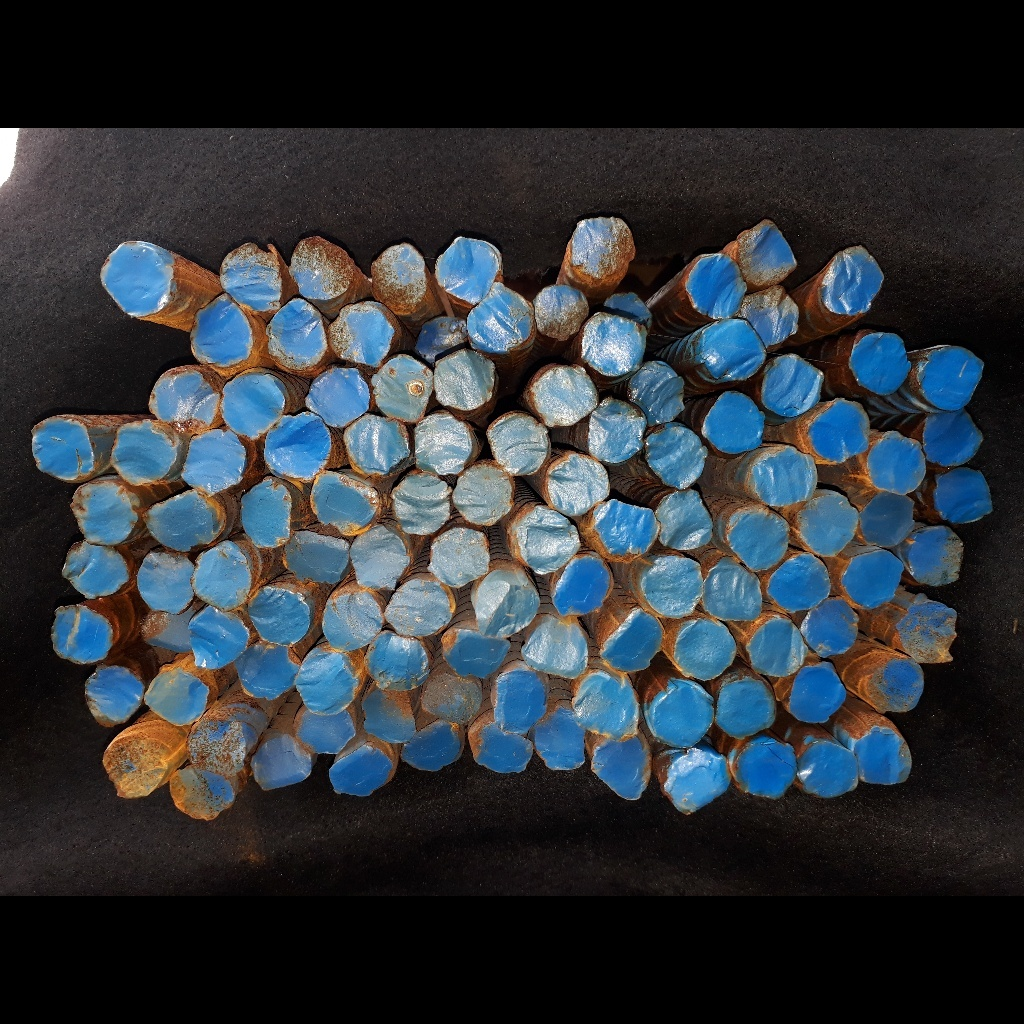dipstick: (102, 241, 172, 314), (146, 491, 221, 548), (648, 682, 715, 745), (72, 484, 137, 547), (666, 749, 730, 812), (918, 348, 984, 409), (823, 248, 882, 316), (470, 287, 532, 351), (222, 370, 283, 435), (84, 663, 144, 729), (573, 218, 634, 282), (732, 737, 796, 798), (740, 220, 799, 286), (247, 585, 313, 644), (221, 244, 282, 307), (143, 669, 210, 726), (676, 620, 737, 682), (519, 509, 580, 571), (372, 246, 427, 314), (150, 371, 218, 426), (729, 510, 790, 571), (290, 237, 352, 297), (268, 416, 330, 476), (478, 576, 540, 636), (702, 320, 765, 379), (268, 302, 325, 367), (312, 475, 378, 531), (32, 420, 93, 480), (330, 306, 392, 365), (296, 653, 356, 713), (51, 607, 112, 666), (853, 331, 909, 395), (112, 427, 177, 482), (191, 304, 251, 363), (789, 665, 850, 723), (797, 740, 859, 797), (181, 431, 243, 488), (437, 235, 493, 298), (687, 254, 743, 317), (581, 674, 637, 737), (194, 548, 250, 611), (812, 399, 867, 463), (377, 355, 431, 420), (534, 367, 593, 426), (763, 356, 823, 414), (705, 391, 762, 452), (103, 739, 165, 795), (189, 718, 247, 777), (643, 557, 703, 614), (584, 317, 645, 373), (869, 432, 925, 493), (803, 494, 858, 556), (414, 414, 471, 473), (718, 679, 775, 738), (553, 559, 612, 616), (190, 610, 247, 669), (648, 427, 703, 488), (429, 531, 490, 586), (137, 553, 194, 611), (528, 623, 587, 679), (598, 502, 658, 557), (347, 419, 408, 473), (926, 410, 984, 466), (604, 615, 662, 671), (435, 352, 494, 407), (322, 595, 381, 650), (659, 491, 713, 551), (633, 362, 685, 424), (490, 415, 545, 473), (900, 605, 958, 660), (802, 601, 862, 654), (365, 638, 426, 690), (251, 738, 312, 790), (494, 670, 544, 733), (387, 583, 450, 633), (550, 457, 606, 513), (936, 469, 992, 525), (353, 532, 409, 588), (395, 477, 450, 534), (243, 480, 289, 548), (61, 546, 126, 594), (592, 740, 647, 796), (758, 451, 815, 505), (444, 632, 510, 678), (312, 368, 368, 422), (859, 729, 912, 786), (771, 557, 829, 609), (591, 401, 642, 460), (168, 773, 233, 819), (454, 471, 509, 525), (242, 645, 296, 699), (744, 288, 797, 343), (859, 494, 915, 546), (846, 554, 903, 605), (752, 623, 806, 676), (469, 729, 534, 773), (288, 532, 345, 582), (534, 287, 587, 339), (705, 569, 759, 620), (537, 714, 584, 772), (331, 749, 390, 795), (911, 530, 962, 583), (362, 691, 415, 741), (406, 724, 461, 772), (424, 676, 480, 723), (876, 660, 925, 711), (296, 713, 354, 756), (416, 319, 467, 355), (140, 613, 187, 649), (607, 293, 653, 323)
